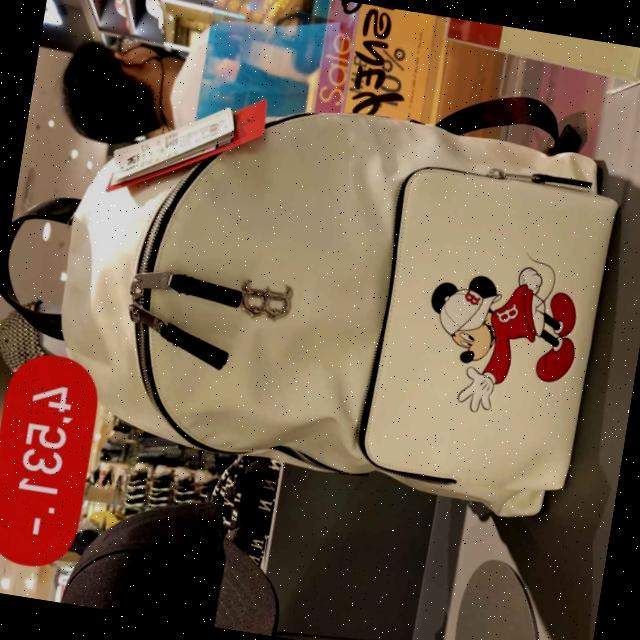Handbag: (42, 70, 622, 526)
